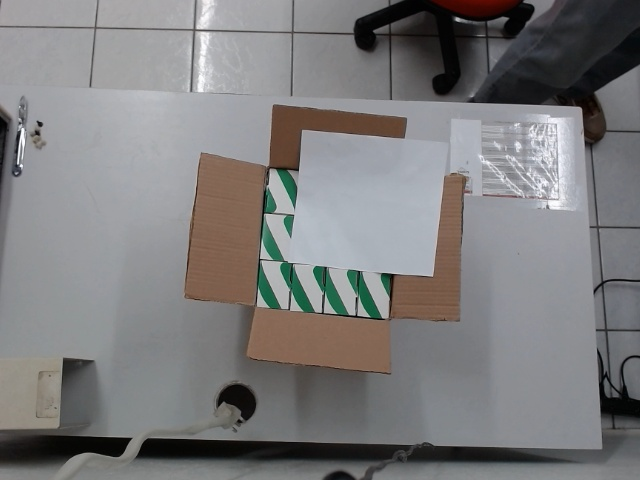divisor: (284, 128, 458, 277)
item: (321, 264, 359, 321), (287, 263, 328, 315), (354, 268, 393, 321), (255, 260, 293, 311), (263, 164, 301, 214), (259, 211, 296, 260)
